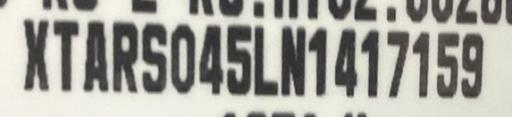letter: (20, 17, 52, 92), (223, 21, 253, 98), (50, 18, 80, 93), (110, 19, 140, 94), (82, 17, 110, 94), (140, 20, 168, 95), (170, 20, 198, 95), (252, 23, 280, 98), (434, 26, 462, 101), (198, 21, 224, 98), (280, 24, 306, 99), (384, 27, 410, 102), (306, 24, 330, 99), (358, 27, 382, 100), (334, 27, 358, 98), (460, 28, 484, 97), (410, 29, 432, 100)
